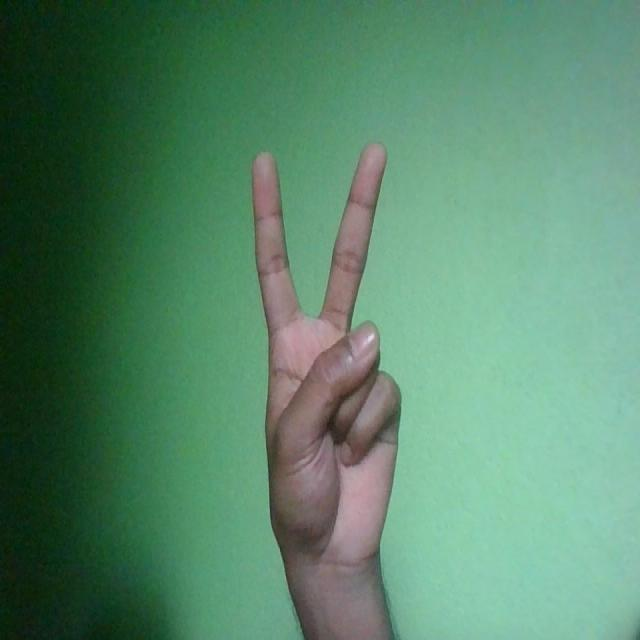Fist: (250, 140, 403, 581)
